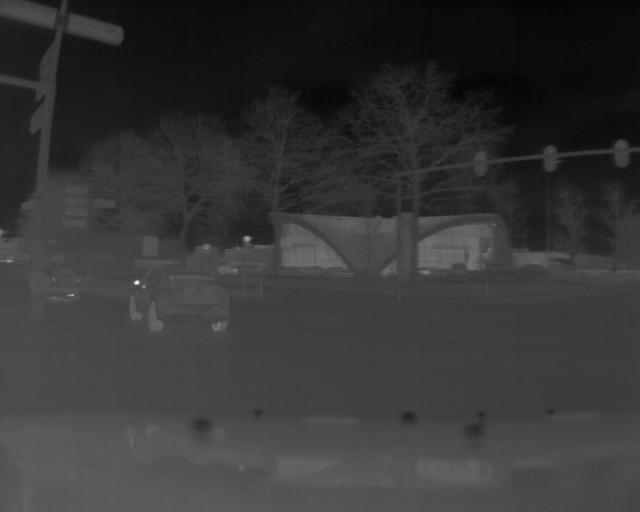car: (126, 267, 235, 340)
